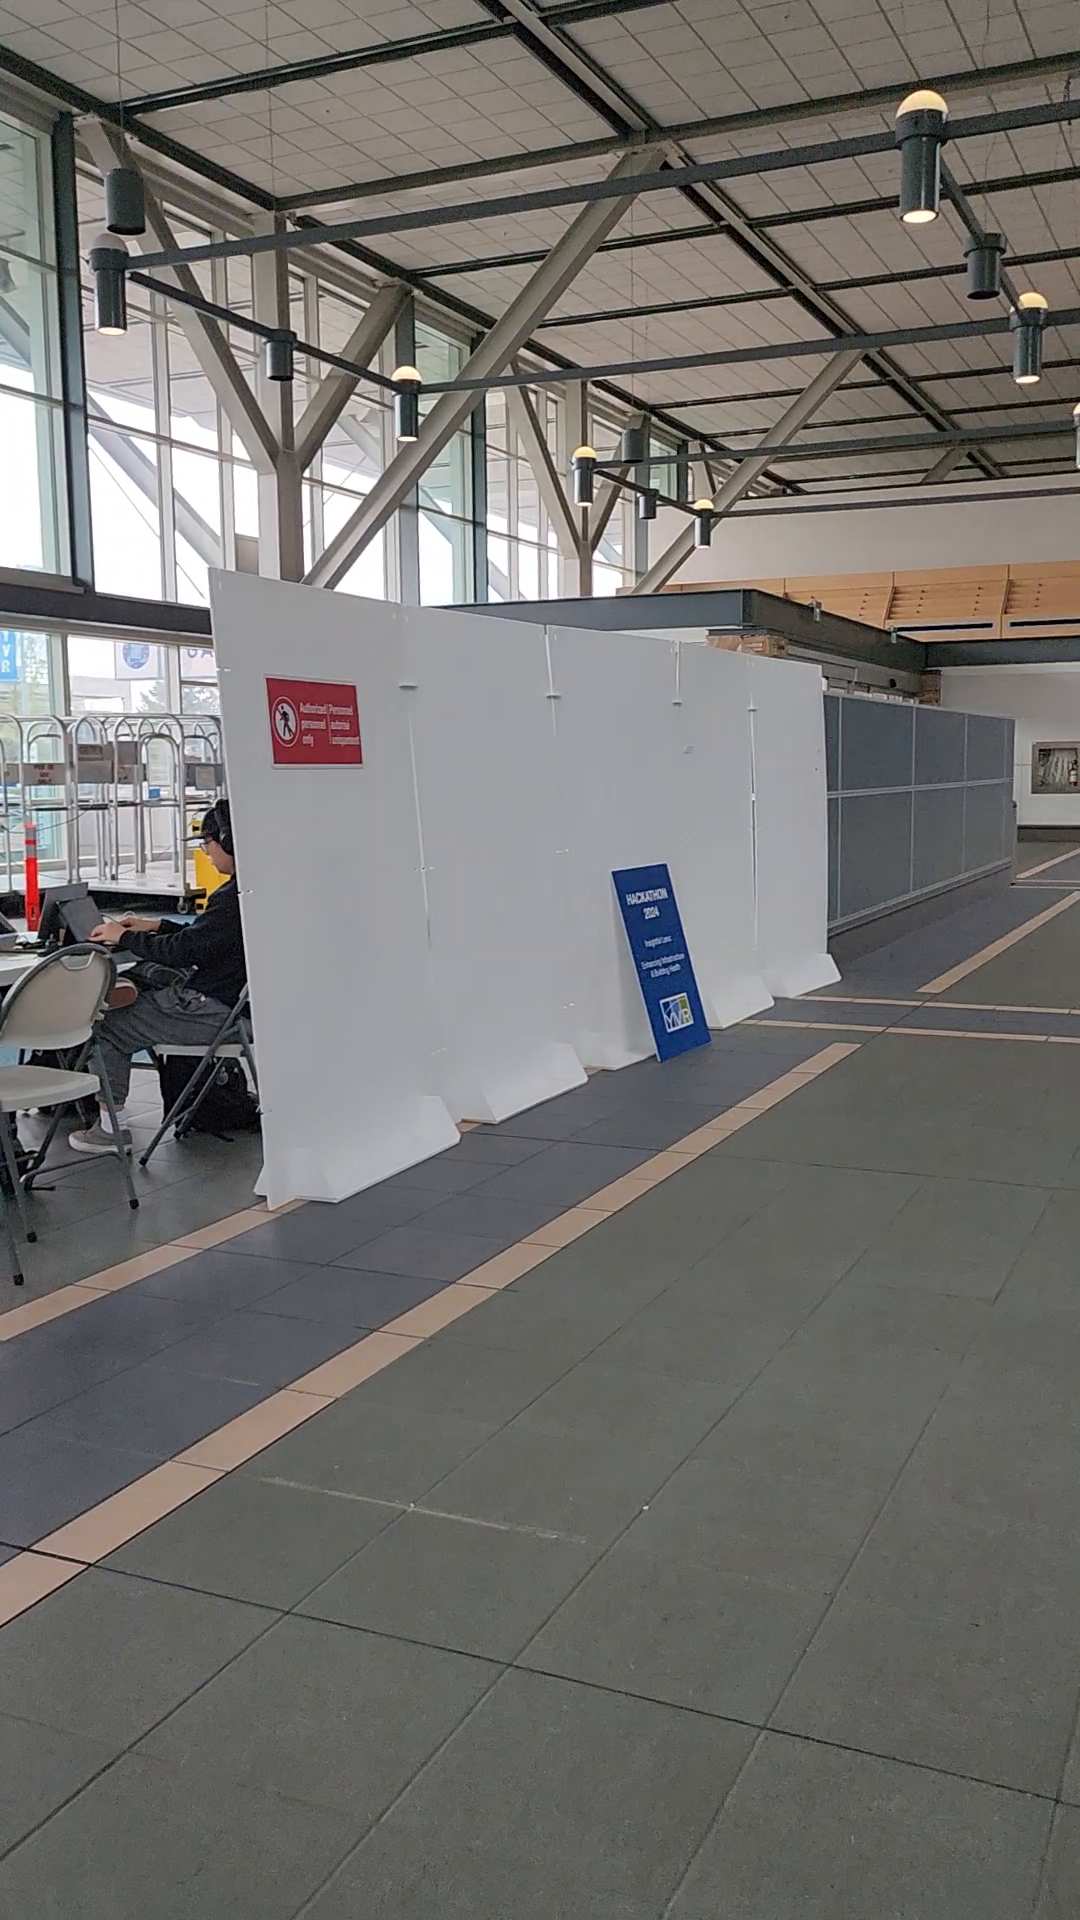Garbage: (636, 1497, 659, 1516)
Stain: (257, 1455, 607, 1564)
